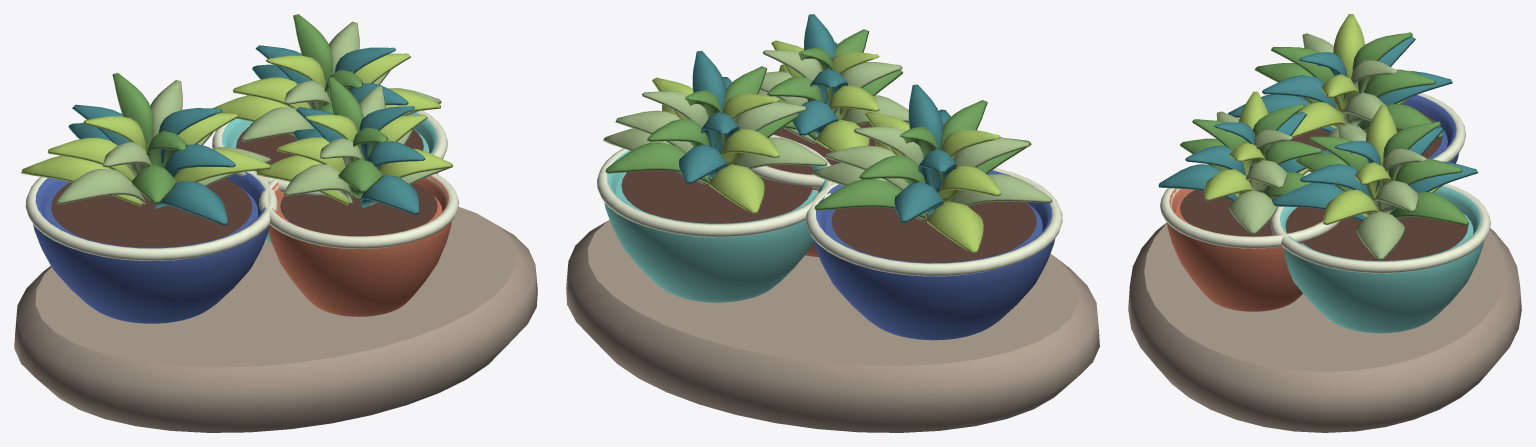
The model's file is atelier_succulents.glb.
The picture shows the model from 3 angles, left to right: view 1: azimuth 30°, elevation 25°; view 2: azimuth 150°, elevation 25°; view 3: azimuth 270°, elevation 25°; orthographic projection. The views are drawn at different scales.
Parts seen in each view (by area): view 1: Bandeja de suculentas; view 2: Bandeja de suculentas; view 3: Bandeja de suculentas.
Boxes of the visible parts, x1,y1,x2,y2 form: Bandeja de suculentas: (14, 14, 537, 432); Bandeja de suculentas: (566, 14, 1099, 432); Bandeja de suculentas: (1128, 14, 1521, 432).
Size of the model in its own units: 0.688 by 0.365 by 0.5229.
